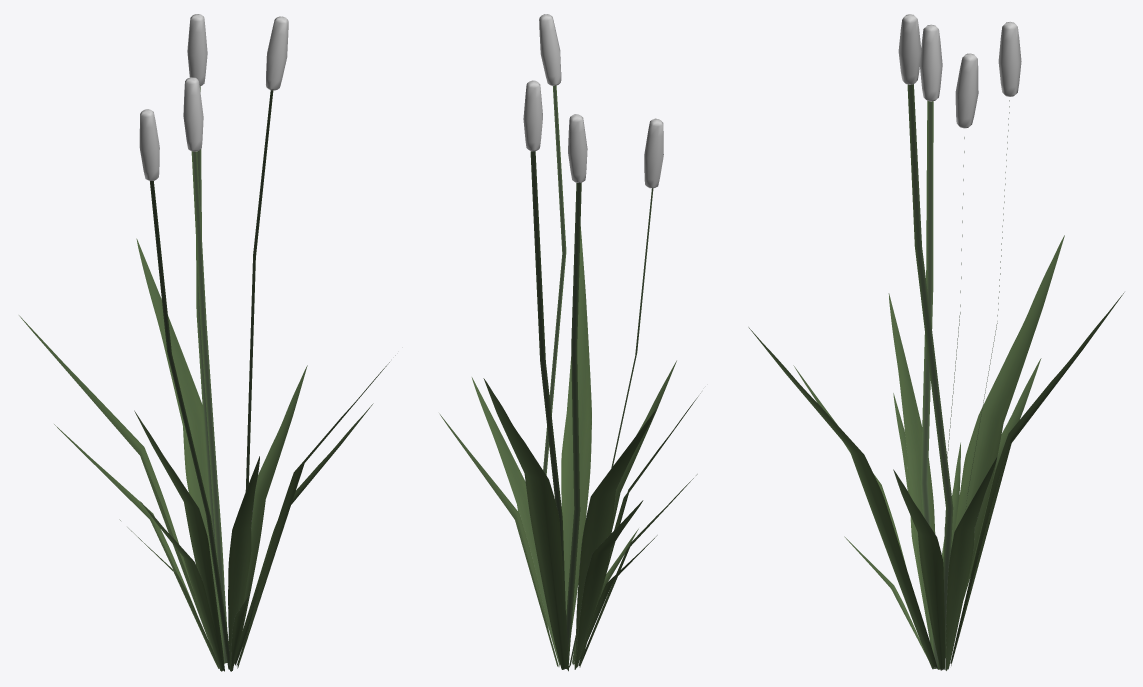
File: CatTail.fbx
The picture shows the model from 3 angles, left to right: view 1: azimuth 30°, elevation 25°; view 2: azimuth 150°, elevation 25°; view 3: azimuth 270°, elevation 25°; orthographic projection. The views are drawn at different scales.
Visible parts, largest first — view 1: Leaf10, Stalk, Leaf1, Leaf6, Stalk1, Leaf4, Leaf9, Leaf5, Stalk3, Stalk2, Leaf8, CatTop3 (+5 smaller); view 2: Leaf10, Leaf5, Leaf9, Stalk, Stalk3, Leaf3, Leaf7, Stalk2, Leaf4, CatTop3, CatTop, CatTop2 (+6 smaller); view 3: Leaf9, Stalk2, Leaf5, Leaf6, Stalk1, Leaf4, Leaf3, Leaf10, CatTop2, CatTop1, CatTop, CatTop3 (+2 smaller).
Boxes of the visible parts, bbox=[...] form: Leaf10: bbox=[136, 238, 224, 624]; Stalk: bbox=[191, 151, 227, 663]; Leaf1: bbox=[228, 456, 259, 671]; Leaf6: bbox=[134, 410, 224, 670]; Stalk1: bbox=[150, 181, 232, 670]; Leaf4: bbox=[241, 365, 307, 634]; Leaf9: bbox=[19, 315, 213, 651]; Leaf5: bbox=[236, 355, 395, 668]; Stalk3: bbox=[196, 86, 221, 642]; Stalk2: bbox=[245, 90, 273, 491]; Leaf8: bbox=[140, 501, 224, 671]; CatTop3: bbox=[266, 16, 288, 90]; Leaf10: bbox=[483, 378, 568, 671]; Leaf5: bbox=[561, 226, 591, 634]; Leaf9: bbox=[574, 410, 655, 669]; Stalk: bbox=[566, 183, 581, 664]; Stalk3: bbox=[530, 151, 565, 604]; Leaf3: bbox=[471, 377, 560, 666]; Leaf7: bbox=[575, 500, 643, 669]; Stalk2: bbox=[543, 85, 566, 475]; Leaf4: bbox=[439, 413, 558, 666]; CatTop3: bbox=[539, 14, 561, 85]; CatTop: bbox=[523, 80, 542, 151]; CatTop2: bbox=[644, 118, 663, 188]; Leaf9: bbox=[945, 235, 1064, 657]; Stalk2: bbox=[907, 84, 953, 669]; Leaf5: bbox=[748, 327, 938, 669]; Leaf6: bbox=[888, 293, 935, 648]; Stalk1: bbox=[920, 101, 938, 668]; Leaf4: bbox=[946, 457, 997, 670]; Leaf3: bbox=[893, 469, 945, 670]; Leaf10: bbox=[950, 292, 1124, 665]; CatTop2: bbox=[920, 24, 942, 101]; CatTop1: bbox=[955, 53, 978, 128]; CatTop: bbox=[998, 21, 1021, 96]; CatTop3: bbox=[898, 14, 921, 84].
Size of the model in its own units: 0.6815 by 1.52 by 0.7972.
